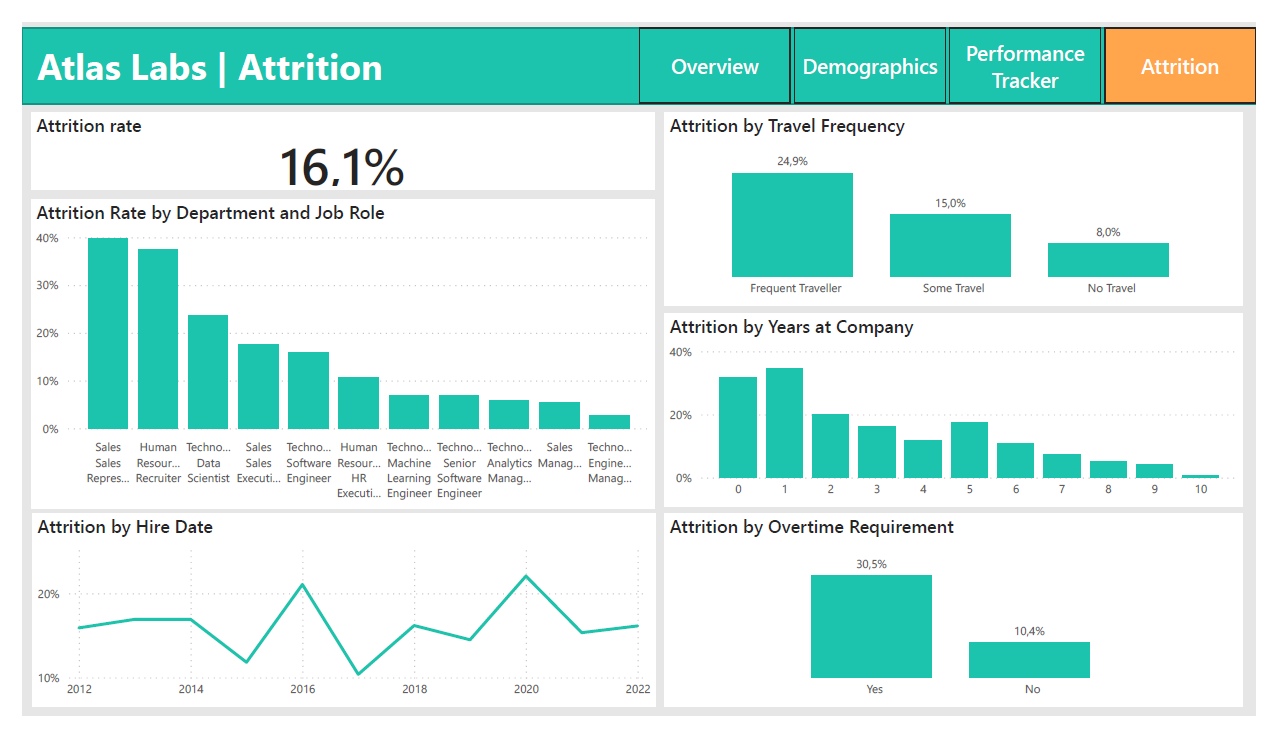

Layout of this report page (visuals, bound fields, positions):
{"tool":"powerbi","page":{"name":"Attrition","canvas":[1280,720],"ordinal":3},"visuals":[{"type":"card","title":"Attrition rate","fields":{"Values":["_Measures.Attrition_rate"]},"box":[10,94.3,647.1,80],"z":0},{"type":"clusteredColumnChart","title":"Attrition Rate by Department and Job Role","fields":{"Category":["Dim_Employee.Department","Dim_Employee.JobRole"],"Y":["_Measures.Attrition_rate"]},"box":[10,184.3,647.1,320],"z":1000},{"type":"lineChart","title":"Attrition by Hire Date","fields":{"Y":["_Measures.Attrition_rate_date"],"Category":["Calendar.Year"]},"box":[11.4,510,645.7,200],"z":2000},{"type":"clusteredColumnChart","title":"Attrition by Travel Frequency","fields":{"Y":["_Measures.Attrition_rate_date"],"Category":["Dim_Employee.BusinessTravel"]},"box":[667.1,94.3,600,200],"z":3000},{"type":"clusteredColumnChart","title":"Attrition by Overtime Requirement","fields":{"Y":["_Measures.Attrition_rate_date"],"Category":["Dim_Employee.OverTime"]},"box":[667.1,510,600,200],"z":4000},{"type":"clusteredColumnChart","title":"Attrition by Years at Company","fields":{"Y":["_Measures.Attrition_rate_date"],"Category":["Dim_Employee.YearsAtCompany"]},"box":[667.1,302.9,600,200],"z":6000},{"type":"shape","title":"Atlas Labs | Performance Tracker","box":[0,5.7,1280,78.6],"z":6001},{"type":"pageNavigator","box":[640,5.7,640,78.6],"z":6002}]}

Visuals, with their boxes in screenshot pixels (x1, y1, x2, y2), scaled from the page's 1280x720 canvas onto the 1277x738 screenshot:
"Attrition rate" card: bbox=[10, 97, 656, 179]
"Attrition Rate by Department and Job Role" clusteredColumnChart: bbox=[10, 189, 656, 517]
"Attrition by Hire Date" lineChart: bbox=[11, 523, 656, 728]
"Attrition by Travel Frequency" clusteredColumnChart: bbox=[666, 97, 1264, 302]
"Attrition by Overtime Requirement" clusteredColumnChart: bbox=[666, 523, 1264, 728]
"Attrition by Years at Company" clusteredColumnChart: bbox=[666, 310, 1264, 515]
"Atlas Labs | Performance Tracker" shape: bbox=[0, 6, 1276, 86]
pageNavigator: bbox=[638, 6, 1276, 86]
